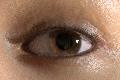eye: (48, 29, 82, 56)
